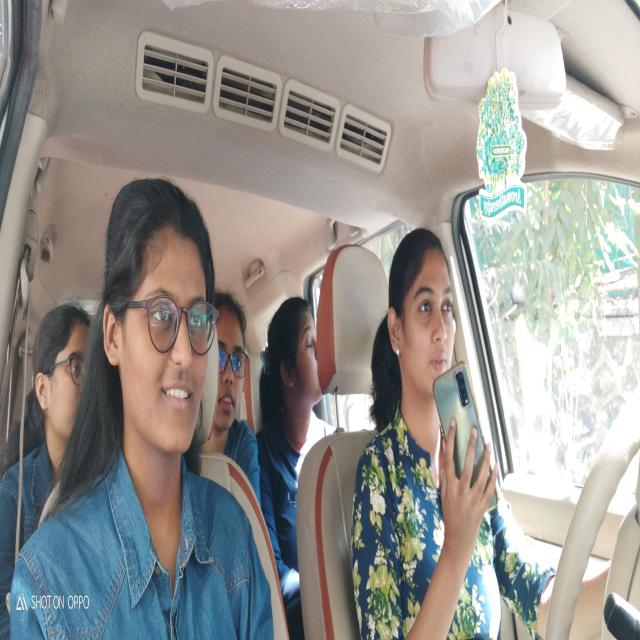mobile: (432, 362, 502, 522)
person: (102, 174, 213, 456), (386, 228, 457, 406), (30, 296, 94, 439), (266, 292, 328, 421), (210, 290, 246, 435)
